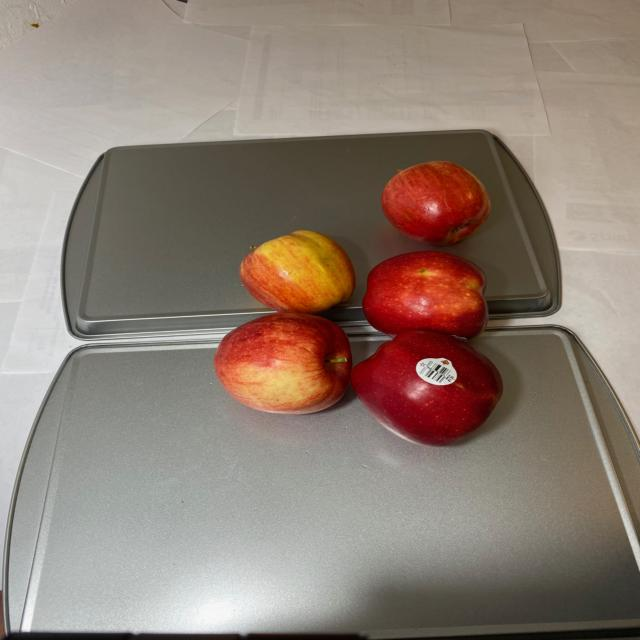Apple: (212, 159, 502, 449)
